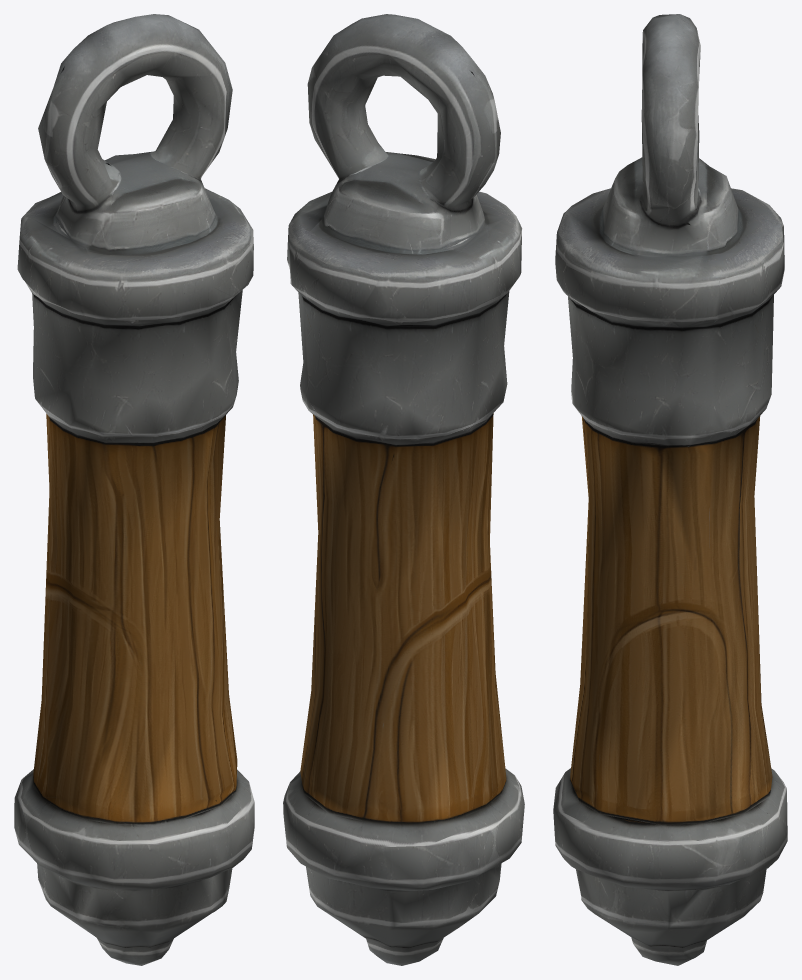
File: Handle.glb
3 renders of one model, left to right at view 1: azimuth 30°, elevation 25°; view 2: azimuth 150°, elevation 25°; view 3: azimuth 270°, elevation 25°, orthographic.
Visible parts, largest first — view 1: Mesh1.0; view 2: Mesh1.0; view 3: Mesh1.0.
Boxes of the visible parts, bbox=[...] form: Mesh1.0: bbox=[14, 14, 254, 965]; Mesh1.0: bbox=[283, 14, 524, 965]; Mesh1.0: bbox=[553, 14, 787, 965].
Bounding box in the file's own units: 0.4335 × 1.93 × 0.4369.
1 material, 1 textured.
